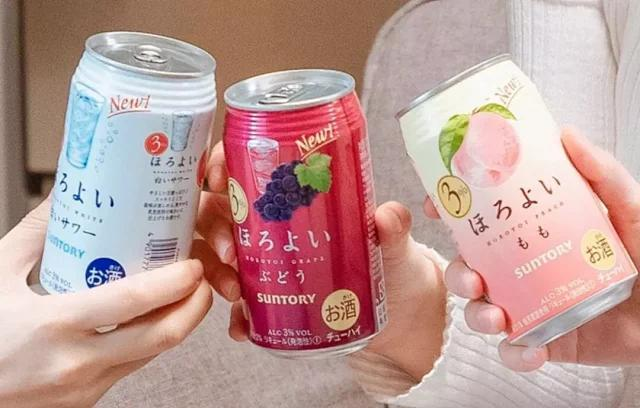metal: (398, 56, 634, 343), (41, 26, 210, 304), (221, 65, 381, 357)
